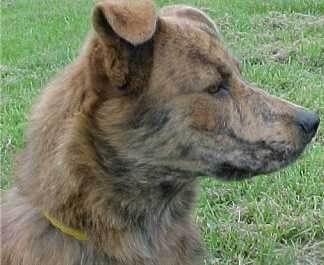dog: (25, 2, 324, 261)
